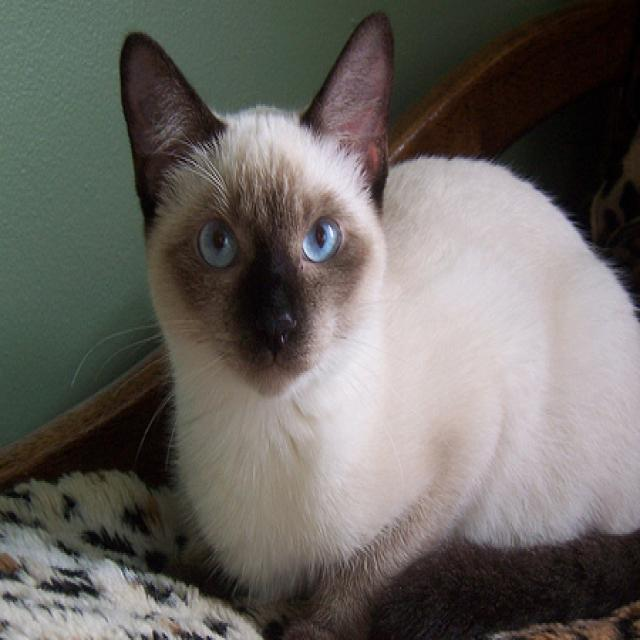Siamese: (114, 2, 640, 640)
